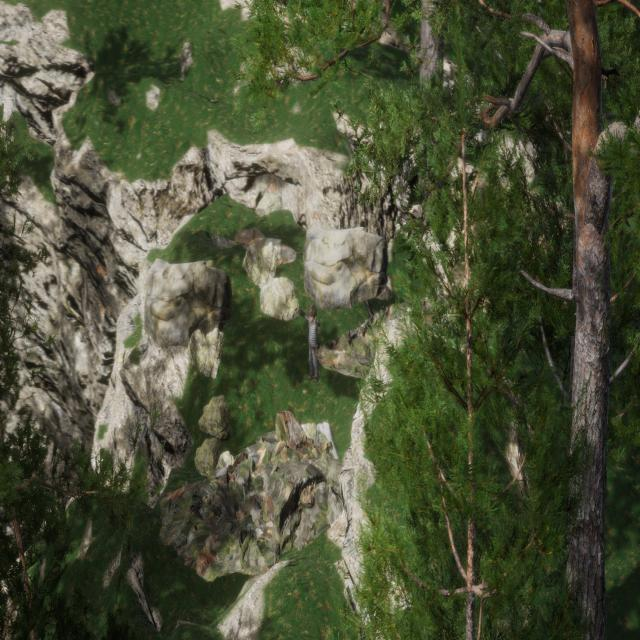Human: (292, 296, 326, 390)
